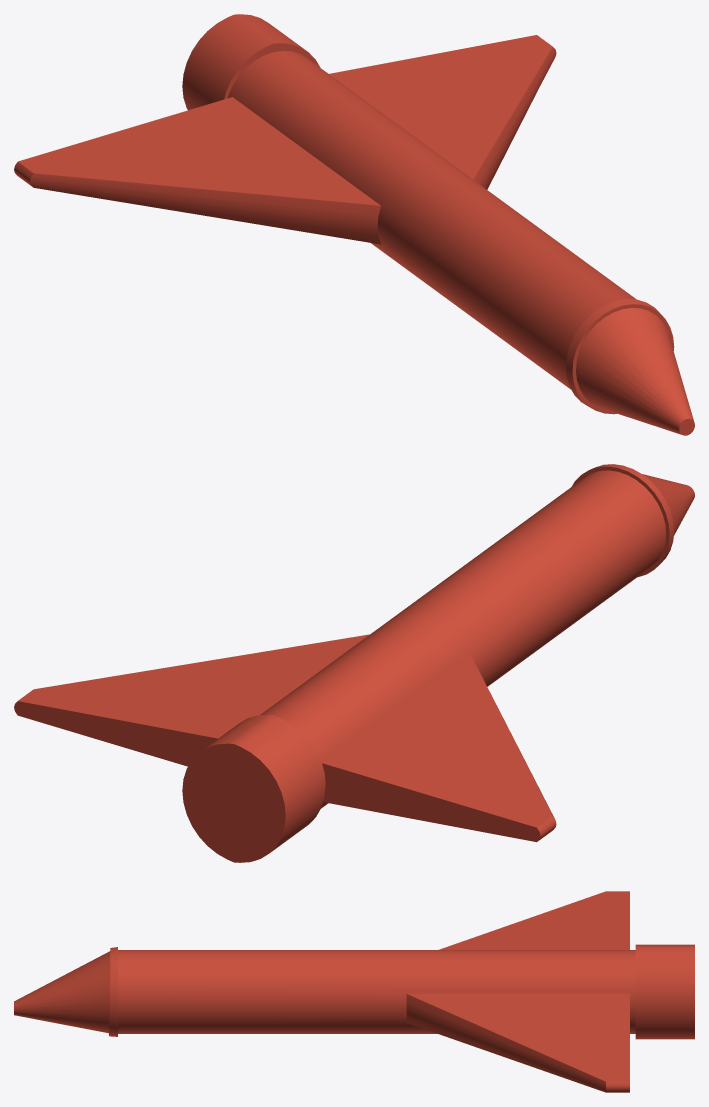
The model's file is BigShip.fbx.
3 renders of one model, top to bottom at view 1: azimuth 30°, elevation 25°; view 2: azimuth 150°, elevation 25°; view 3: azimuth 270°, elevation 25°, orthographic. The views are drawn at different scales.
Visible parts, largest first — view 1: BigShip; view 2: BigShip; view 3: BigShip.
Boxes of the visible parts, <box> form: BigShip: <box>14,14,694,435</box>; BigShip: <box>14,464,694,862</box>; BigShip: <box>14,891,694,1092</box>.
Bounding box in the file's own units: 3265 × 702 × 4866.
